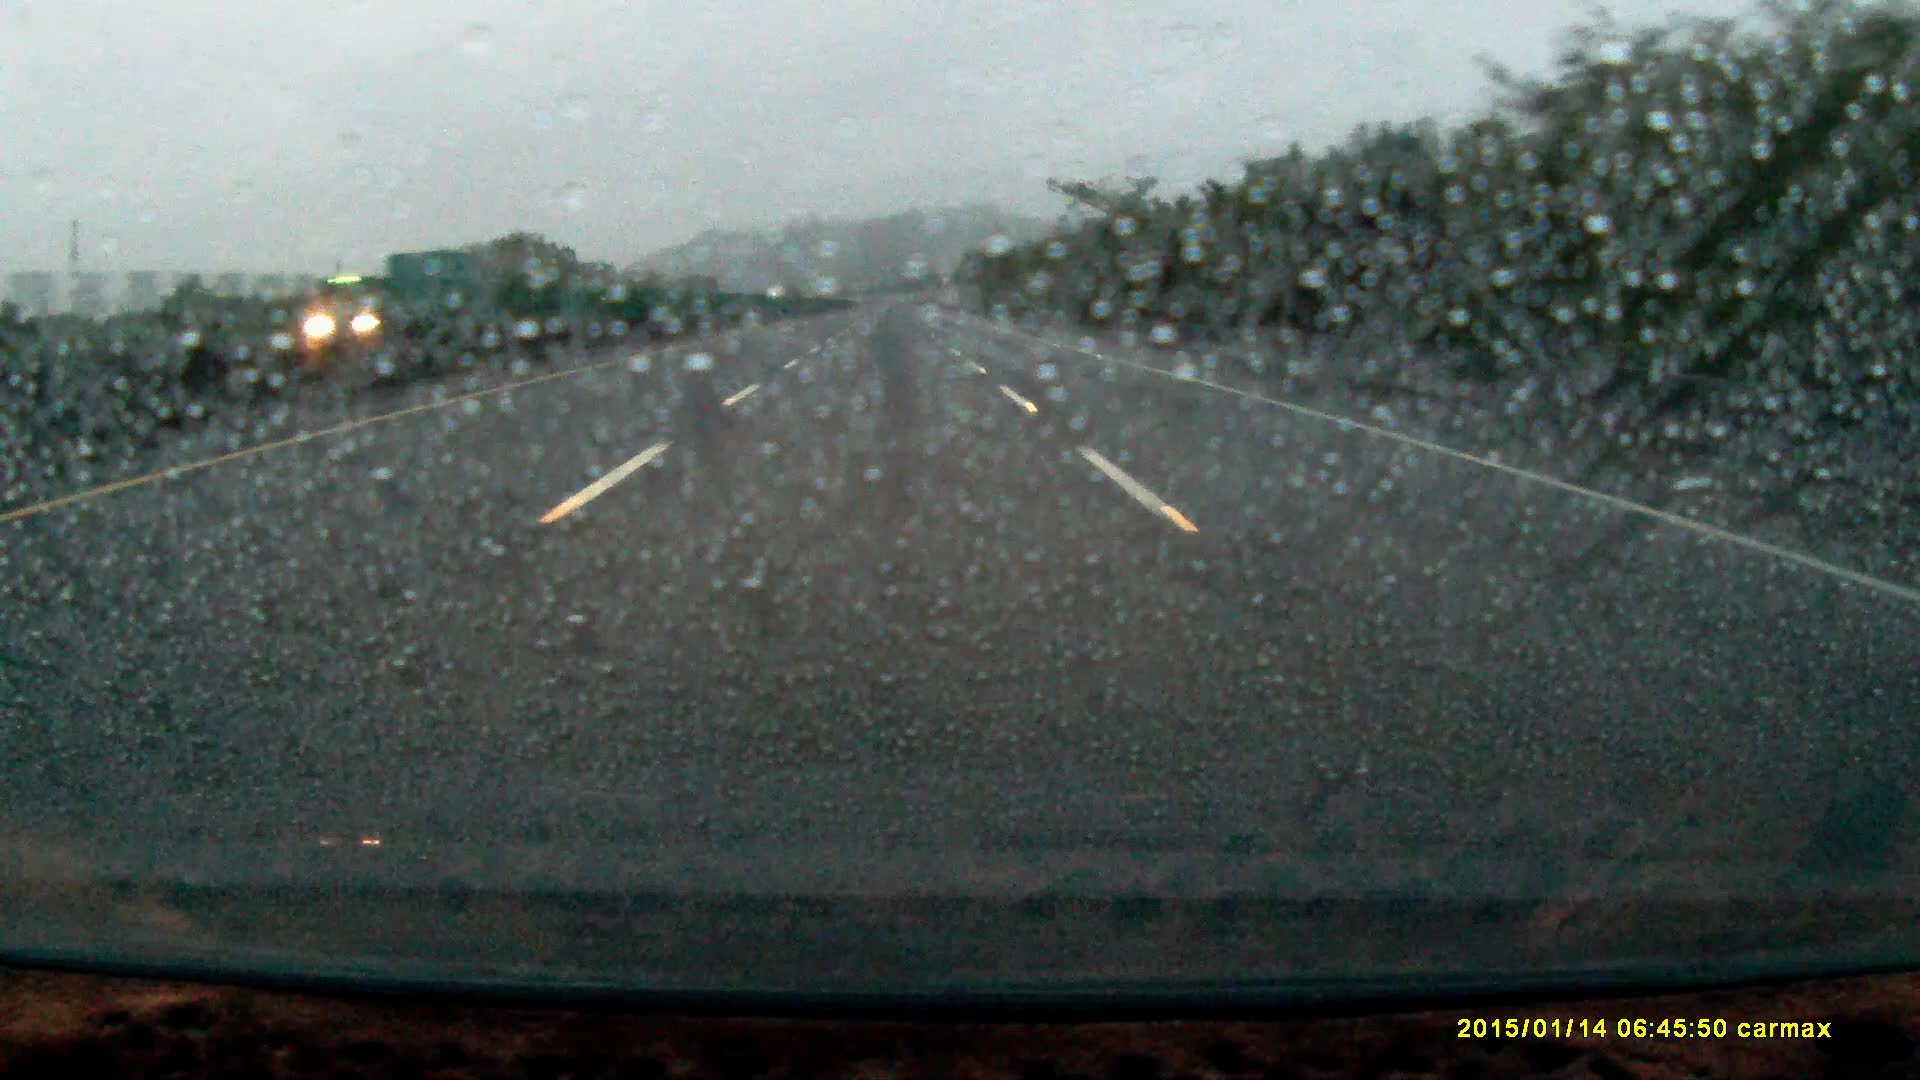vehicle: (302, 252, 484, 348)
